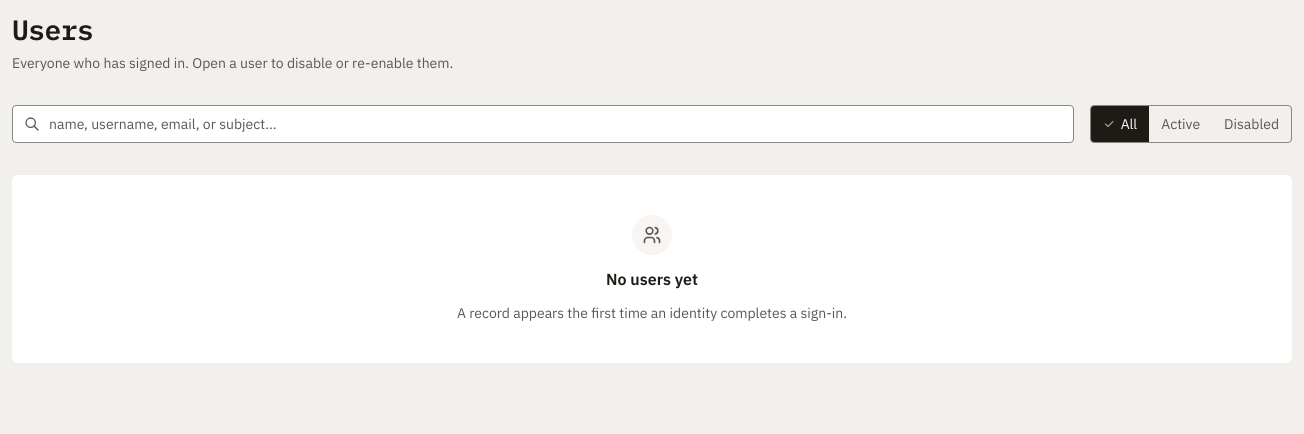
Admin users list › should say nobody is disabled when the Disabled filter is empty
Expected: the text "No users yet" is shown, [606,267,698,291]
Click the button with test id "status-filter-disabled". click: click(1252, 124)
box: [1212,106,1291,142]
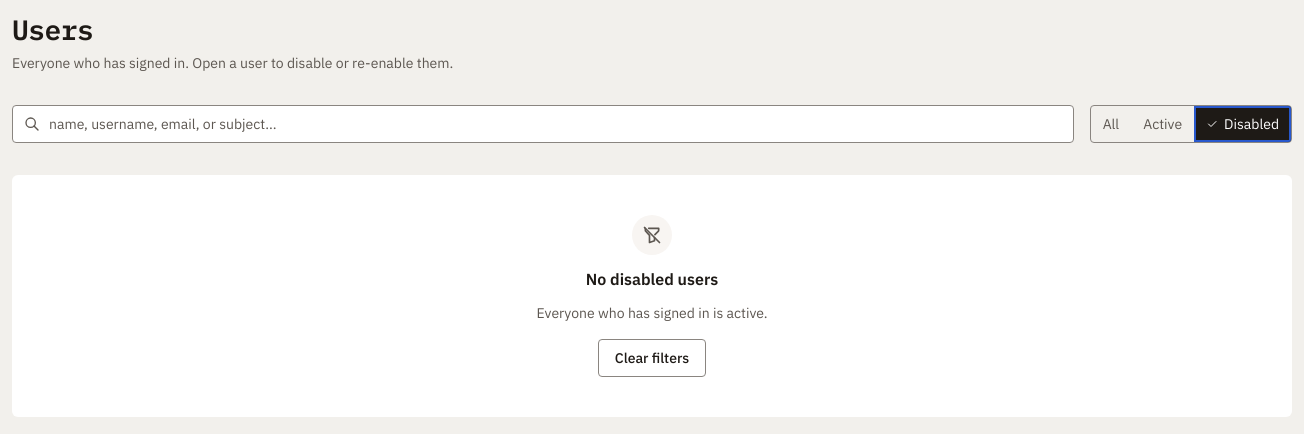
Now the element with test id "users-empty" shows "No disabled users", box [586,269,718,289]
